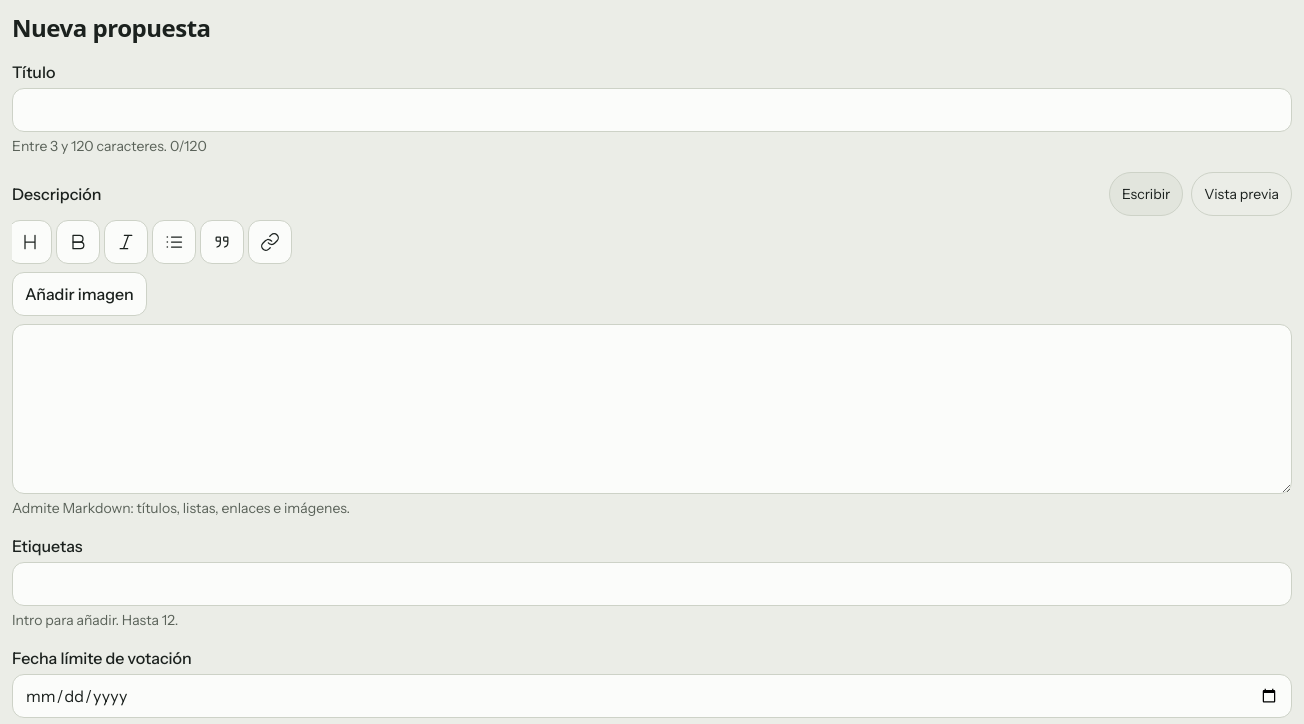
Test: MarkdownToolbar › wraps whatever is selected instead of inserting a placeholder
The width and height of the screenshot is (1304, 724).
Type "una furgoneta grande" into the text box labelled "Descripción". click: (652, 409)
box: [12, 324, 1292, 494]
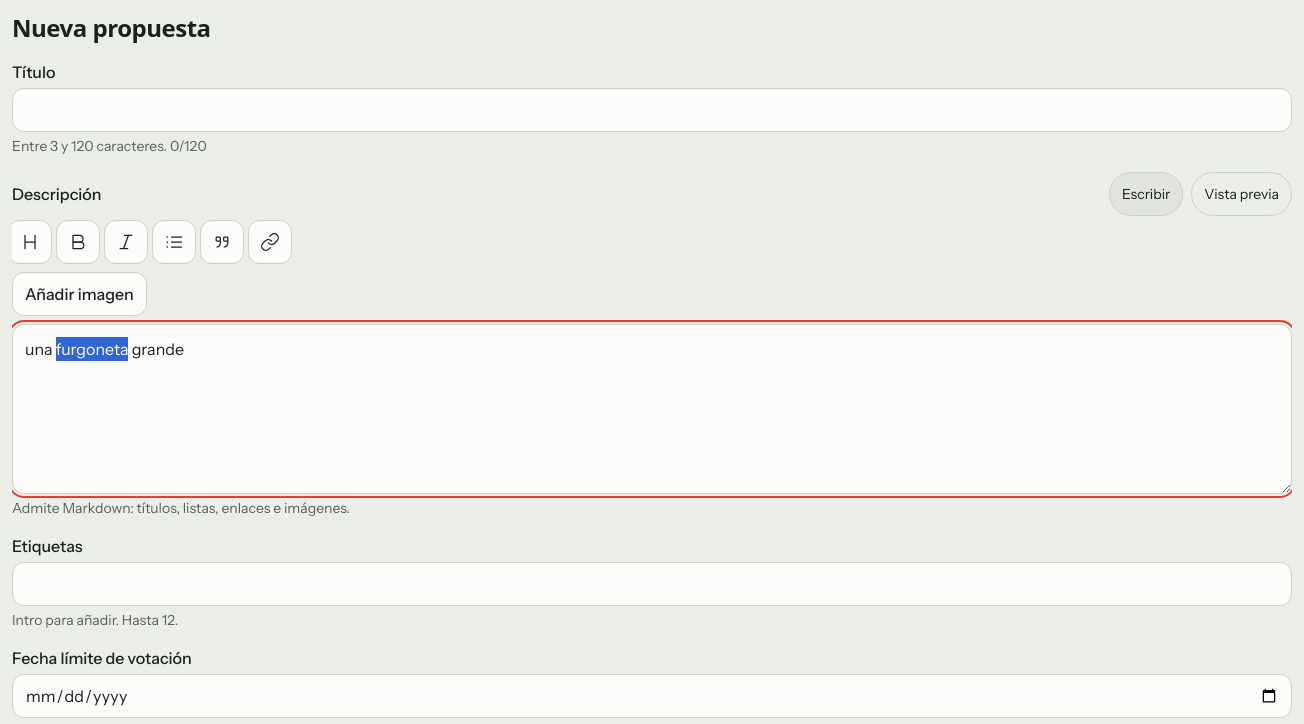
Click the button named "Negrita". click: (78, 242)
box: [56, 220, 100, 264]
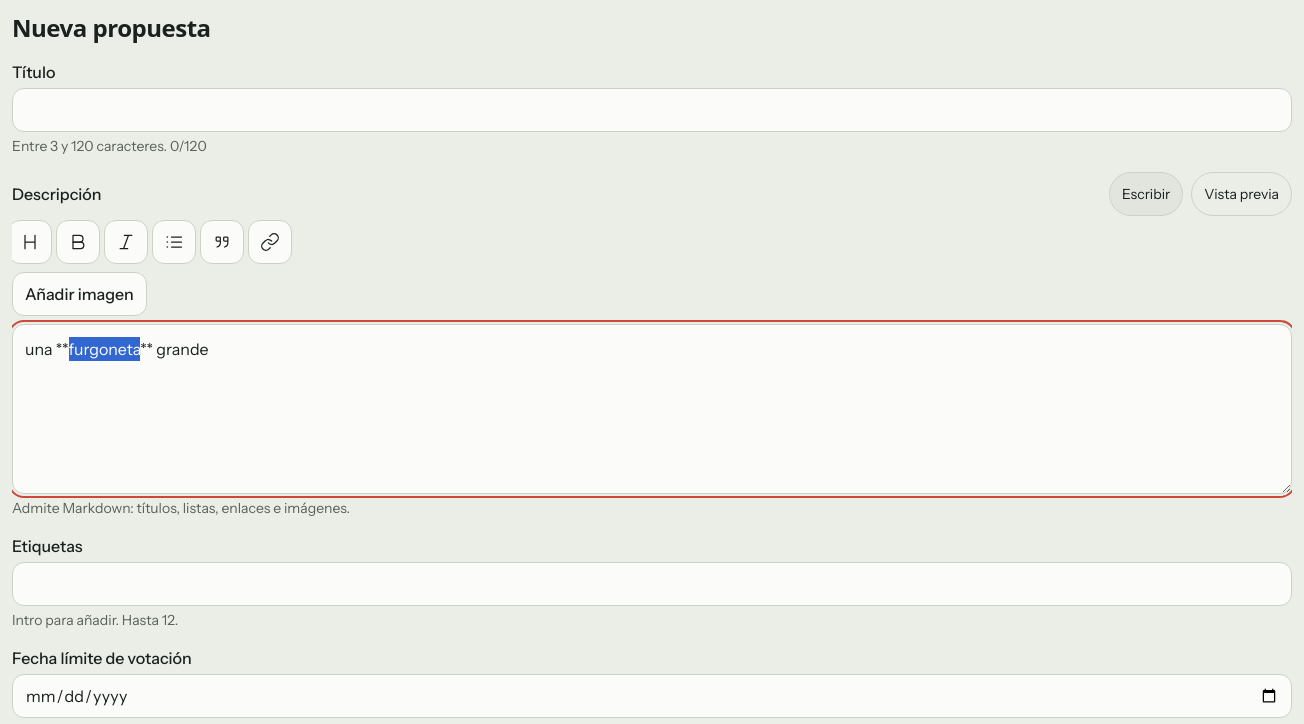
Check: the text box labelled "Descripción" holds "una **furgoneta** grande", box [12, 324, 1292, 494]
